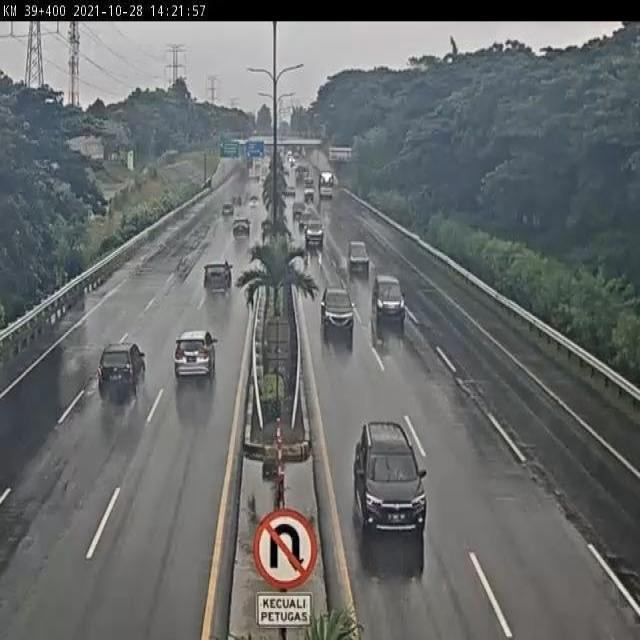Bus: (319, 171, 336, 201)
Car: (352, 414, 427, 544), (173, 329, 217, 387), (370, 274, 406, 328), (320, 287, 355, 341), (201, 259, 232, 296), (348, 239, 372, 276), (305, 219, 326, 252), (230, 217, 253, 243), (298, 209, 314, 233), (220, 203, 237, 219)
Van: (98, 342, 146, 402)
